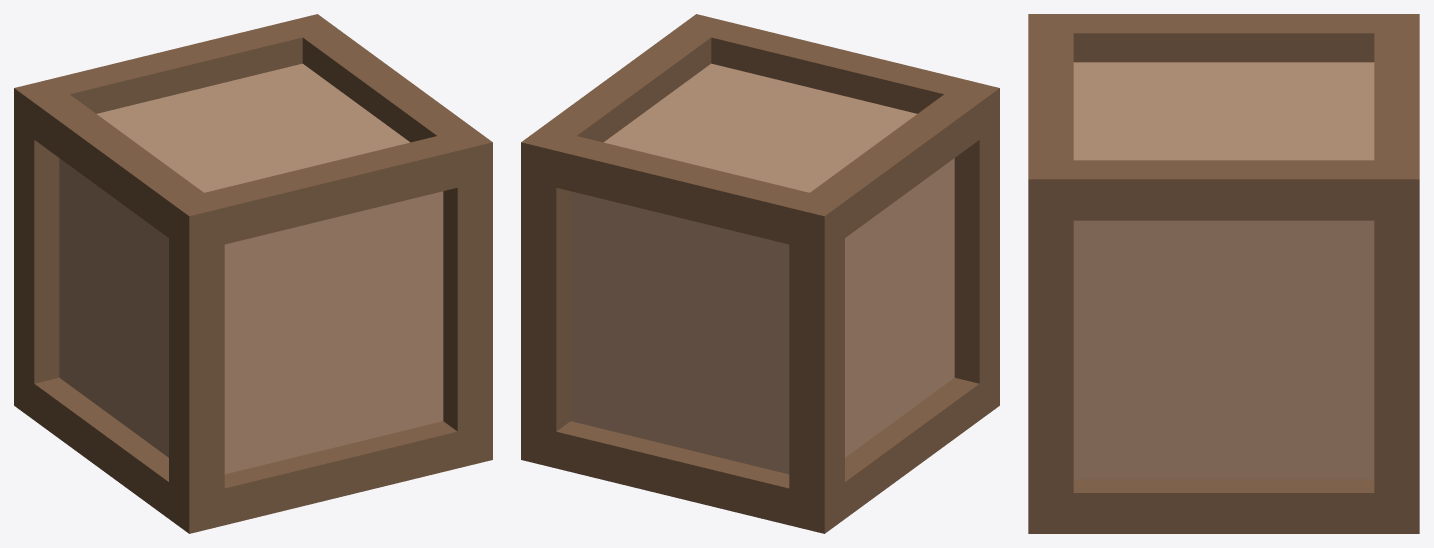
Rendered from Wood Large Crate 2.fbx.
The picture shows the model from 3 angles, left to right: view 1: azimuth 30°, elevation 25°; view 2: azimuth 150°, elevation 25°; view 3: azimuth 270°, elevation 25°; orthographic projection. The views are drawn at different scales.
Visible parts, largest first — view 1: Wooden_Crate_Large_4; view 2: Wooden_Crate_Large_4; view 3: Wooden_Crate_Large_4.
Boxes of the visible parts, x1,y1,x2,y2 form: Wooden_Crate_Large_4: (14,14,492,533); Wooden_Crate_Large_4: (521,14,999,533); Wooden_Crate_Large_4: (1028,14,1419,533).
Size of the model in its own units: 184 by 184 by 184.
